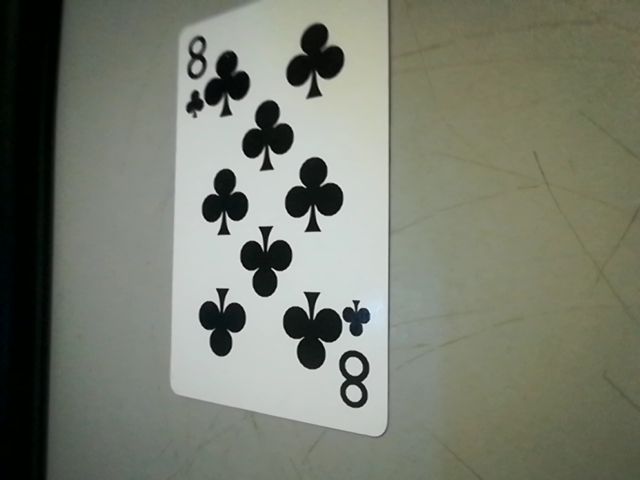mh 8: (332, 299, 387, 422)
